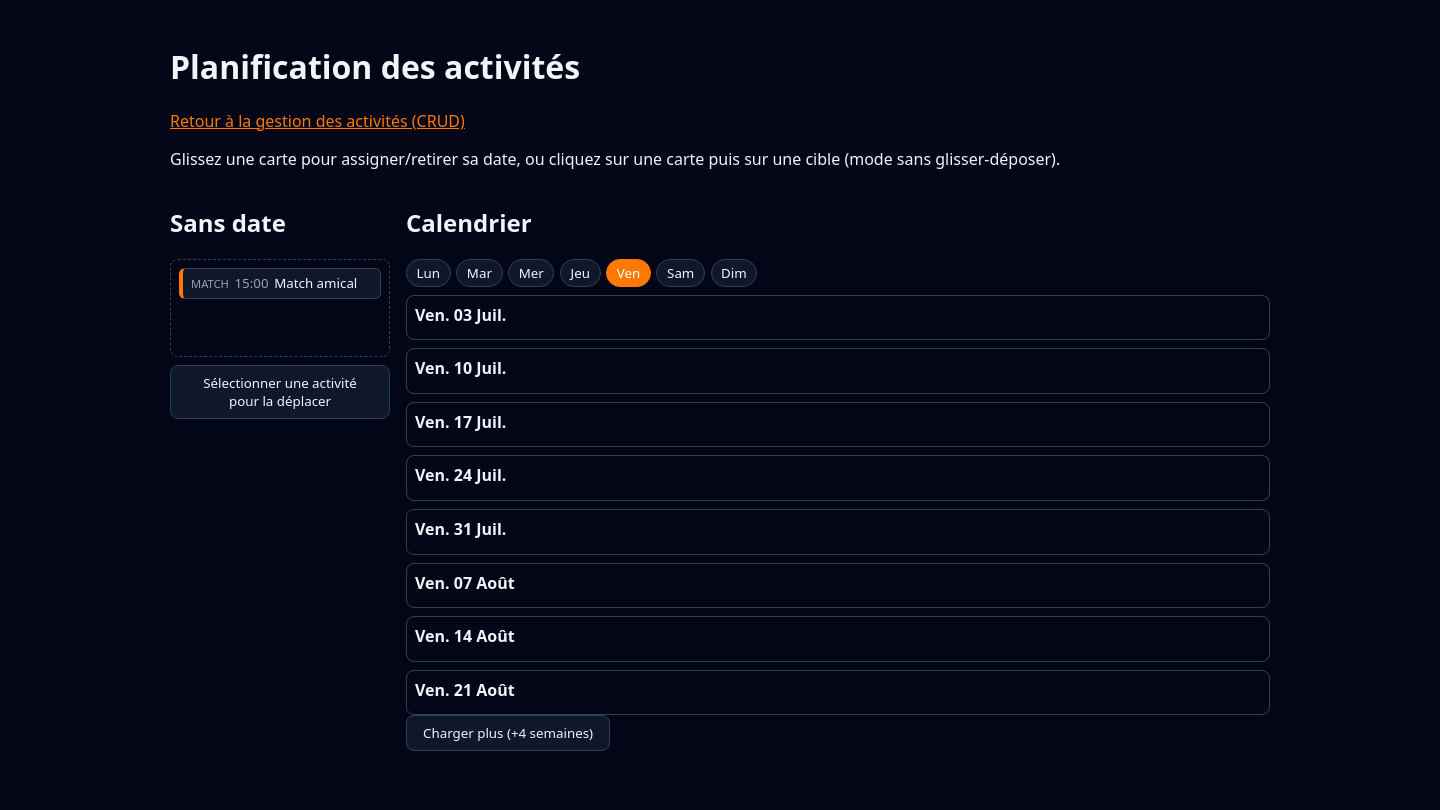
Scenario: AdminPlanificationActivitesPage › ouvre la popup de détail quand on clique sur une carte sans sélection active
This screenshot has width=1440, height=810.
Click the button "Match 15:00 Match amical" at (280, 283), box [179,268,381,299]
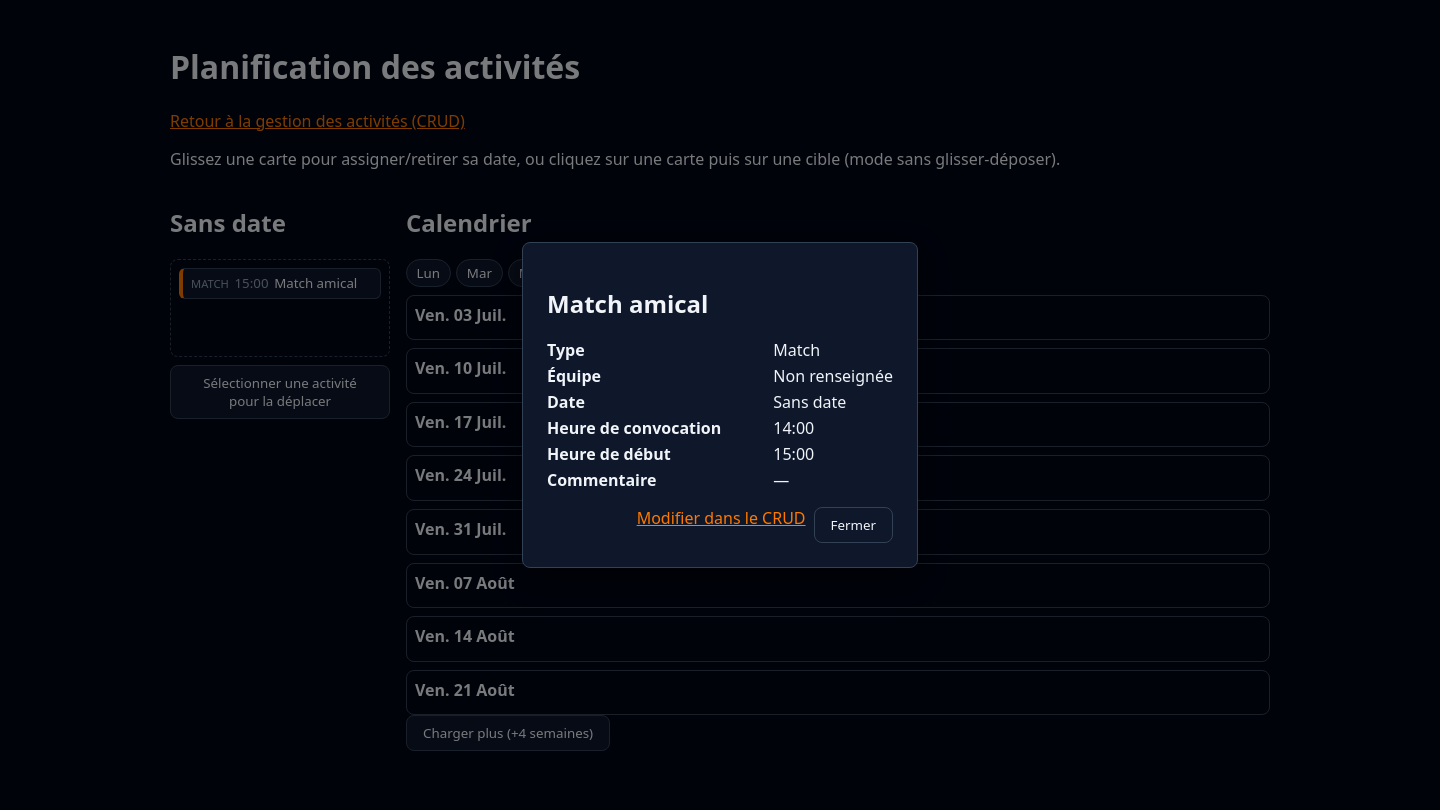
Check: the dialog is shown, box [522,242,918,568]
Check: the heading "Match amical" is shown, box [547,286,708,320]
